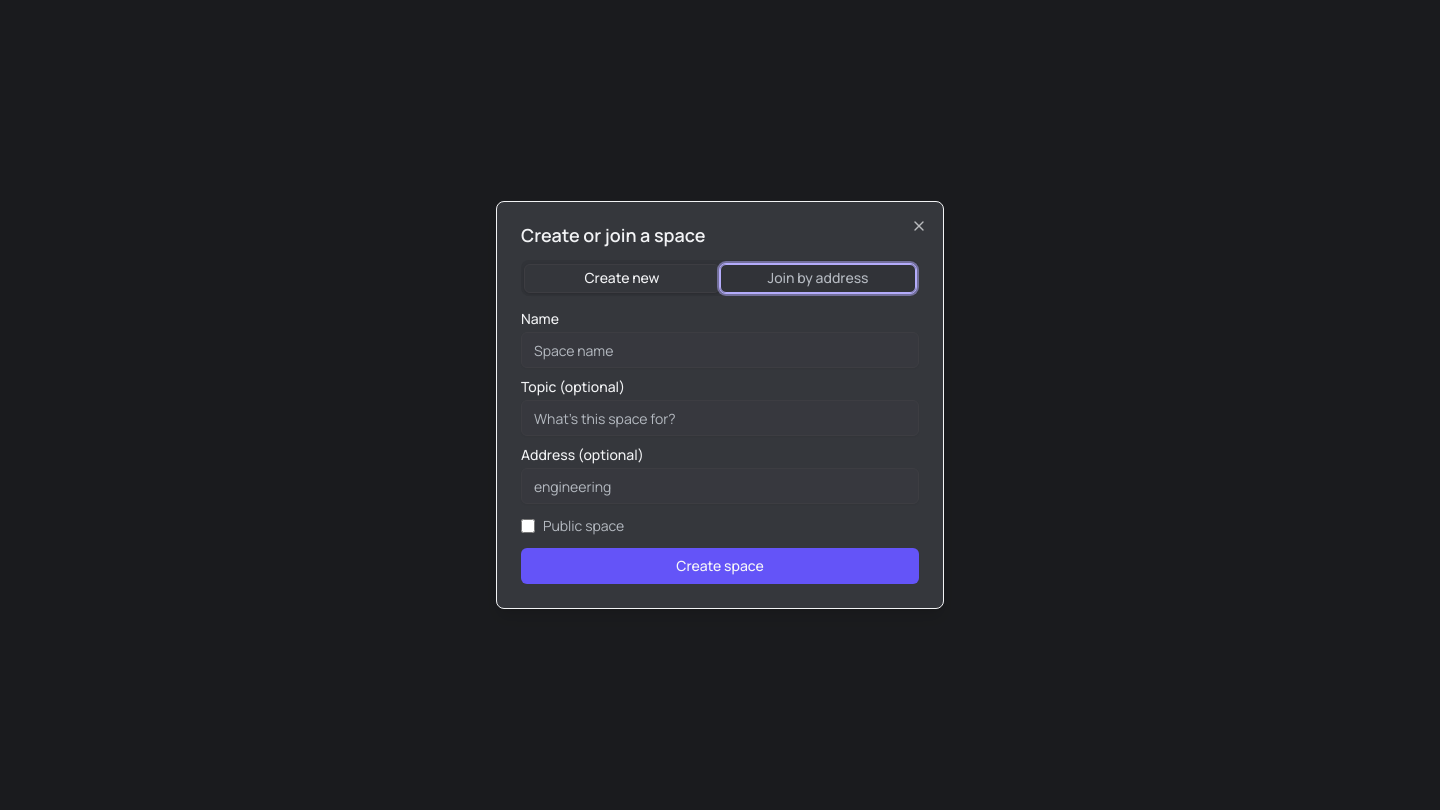
Test: CreateJoinSpaceDialog › requires an address before joining
Click the tab "Join by address". click: coordinates (818, 278)
box: [720,264,916,292]
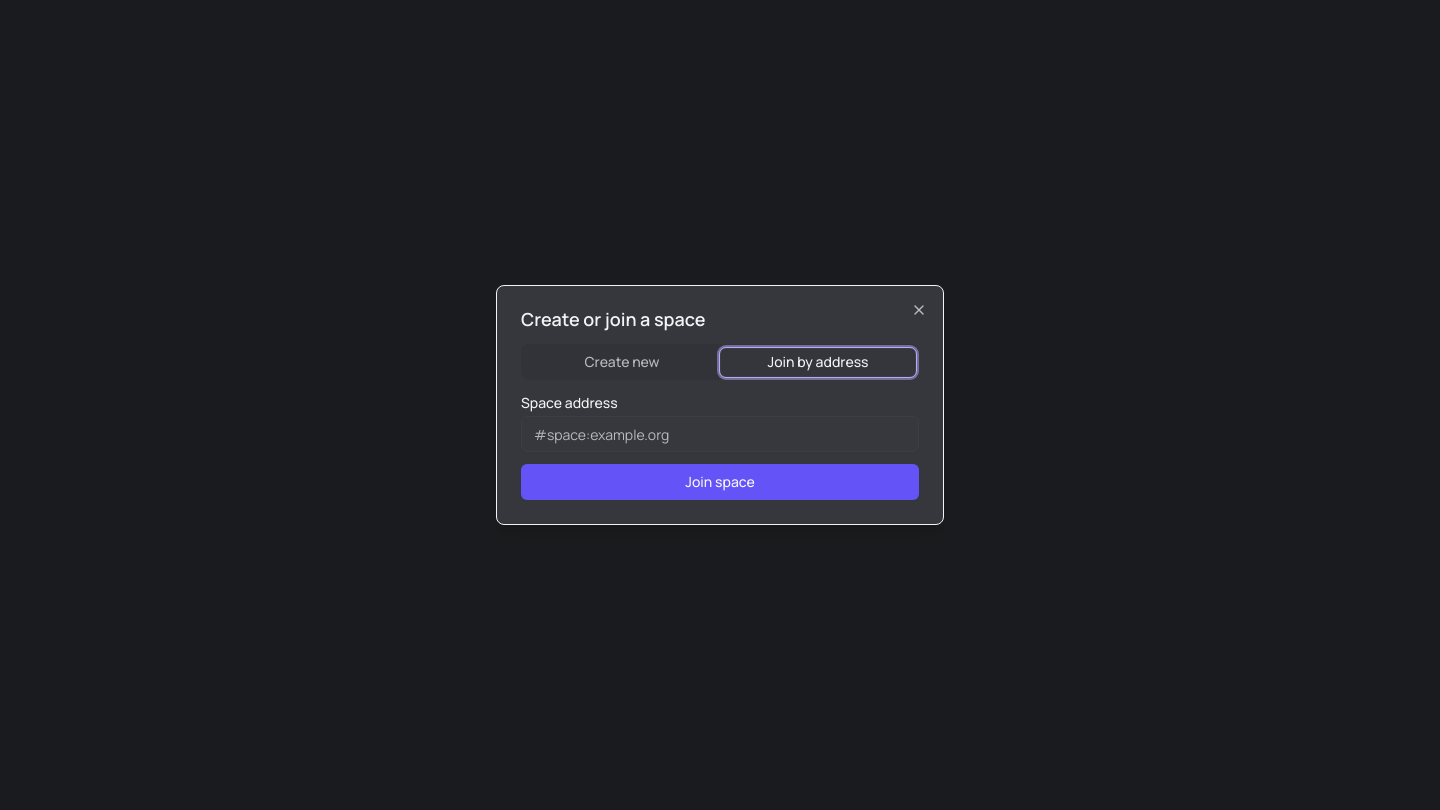
Click the button "Join space". click: coordinates (720, 482)
box: [521,464,919,500]
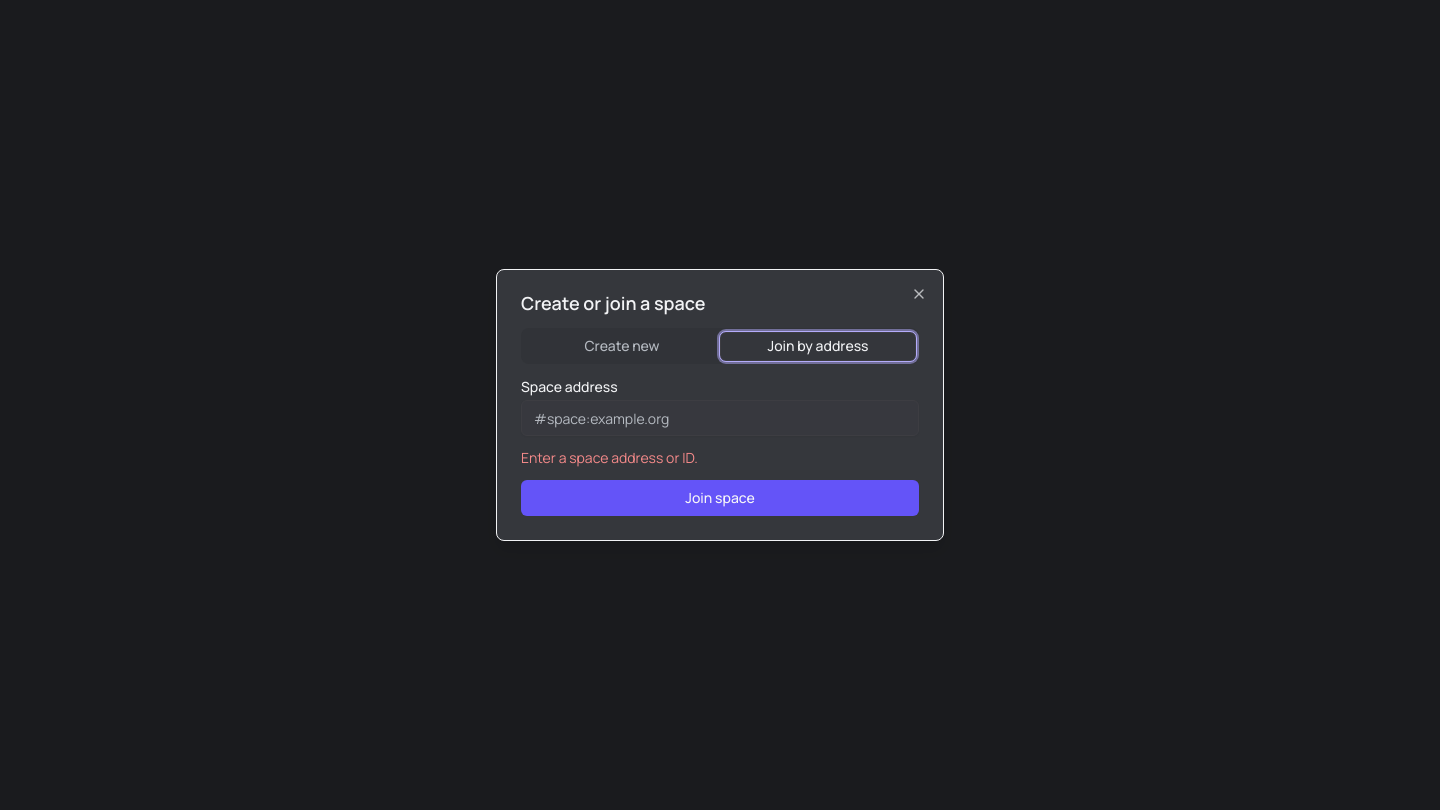
Check: the text "Enter a space address or ID." is shown, box [521,448,698,467]
